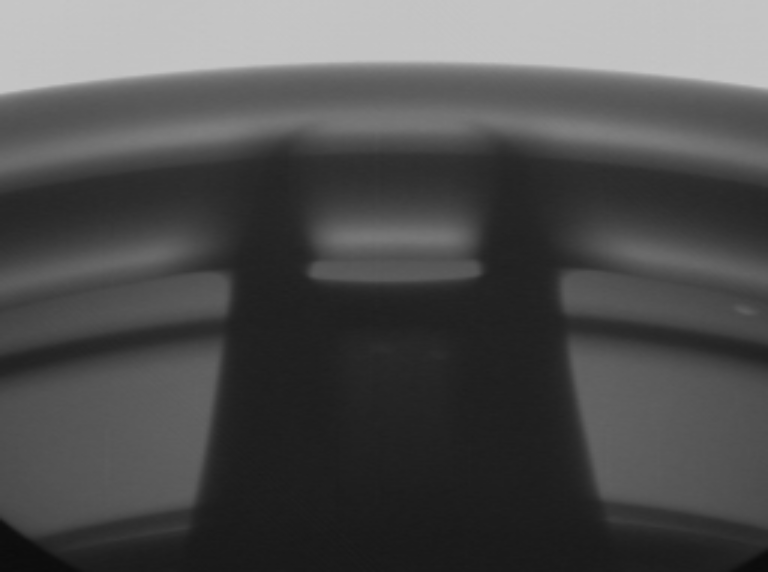defect: (726, 302, 762, 328)
